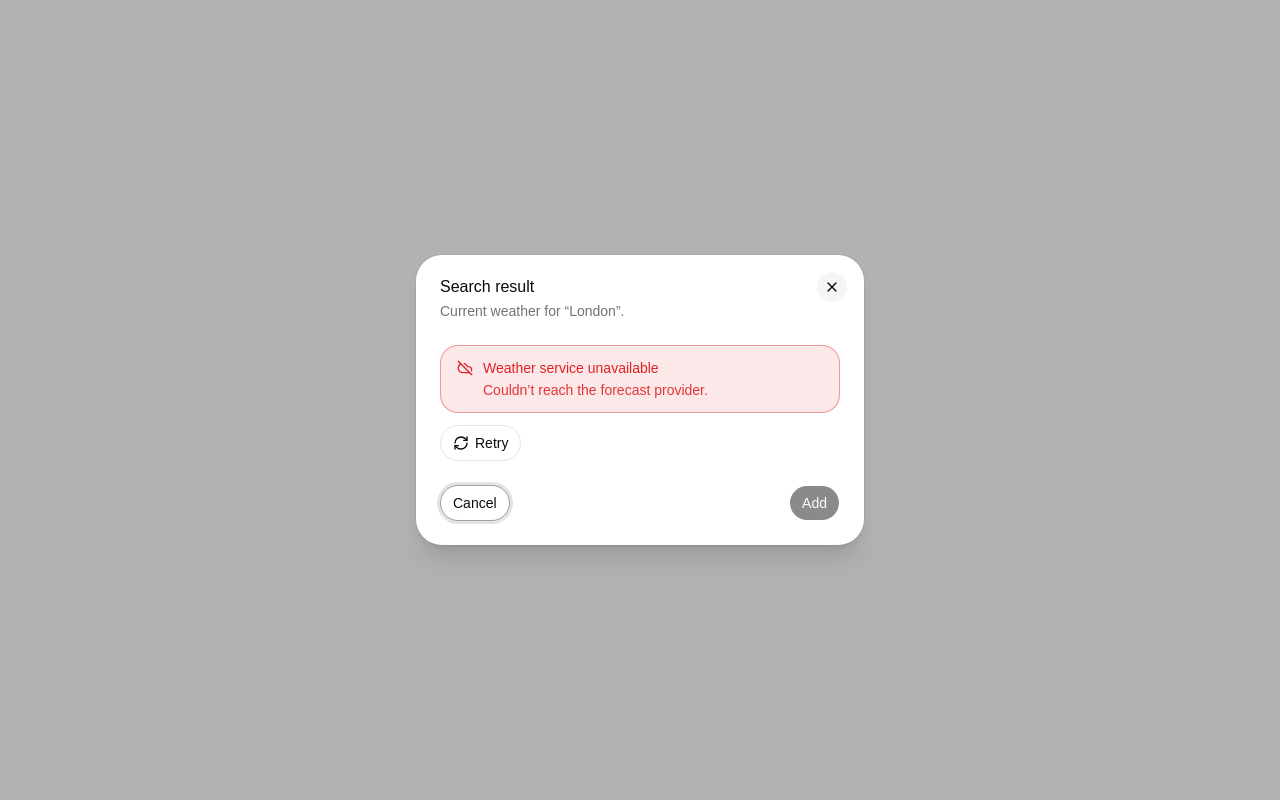
Test: SearchResultDialog › renders the error state with a Retry button that refetches
Expected: the element with test id "weather-error" is shown, [440,345,840,461]
Click the button "Retry" at (481, 443), box [440,425,522,461]
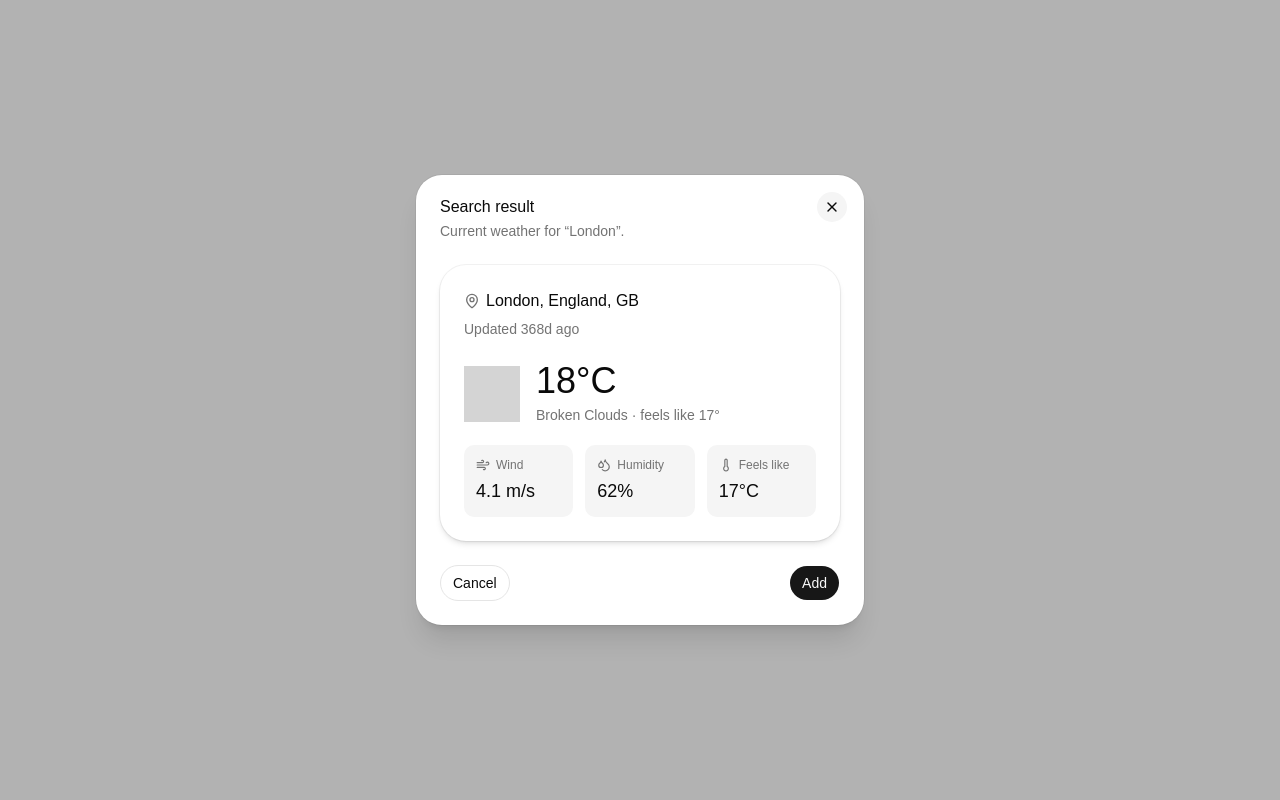
Now the element with test id "weather-card" is shown, box [440,265,840,541]
